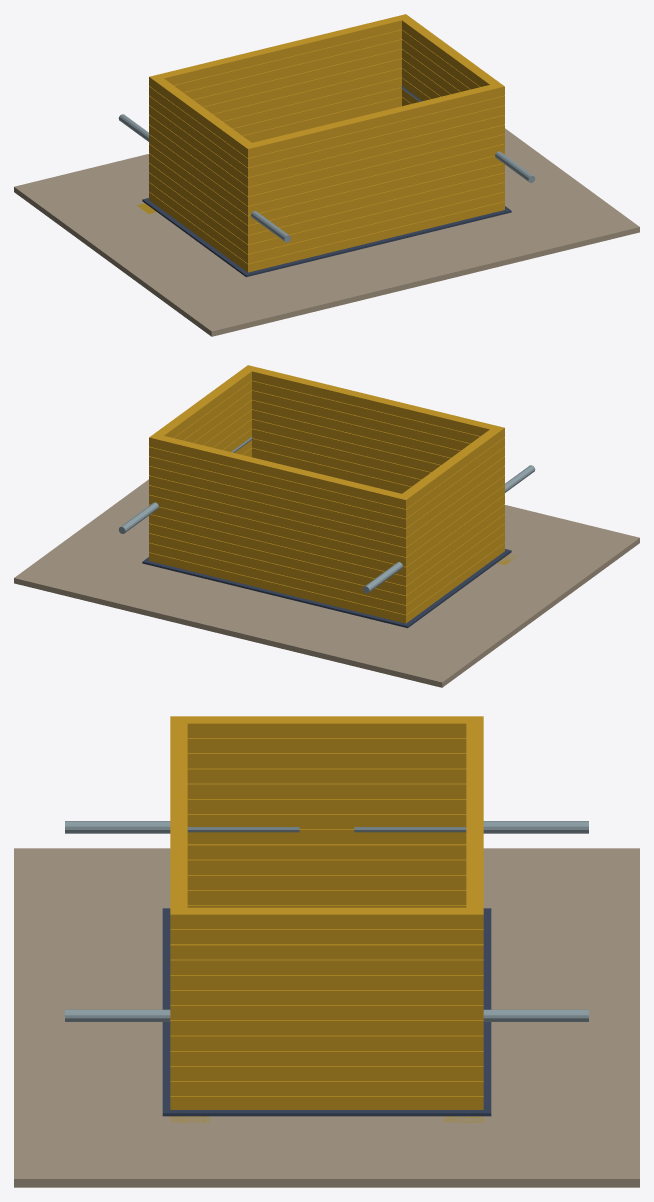
The model's file is stage_04_walls.glb.
The picture shows the model from 3 angles, top to bottom: view 1: azimuth 30°, elevation 25°; view 2: azimuth 150°, elevation 25°; view 3: azimuth 270°, elevation 25°; orthographic projection. The views are drawn at different scales.
Parts seen in each view (by area): view 1: world; view 2: world; view 3: world.
Part boxes in pixels (x1,y1,x2,y2): world: (14,14,639,336); world: (14,365,639,687); world: (14,716,639,1187).
Bounding box in the file's own units: 10 × 3.6 × 8.
